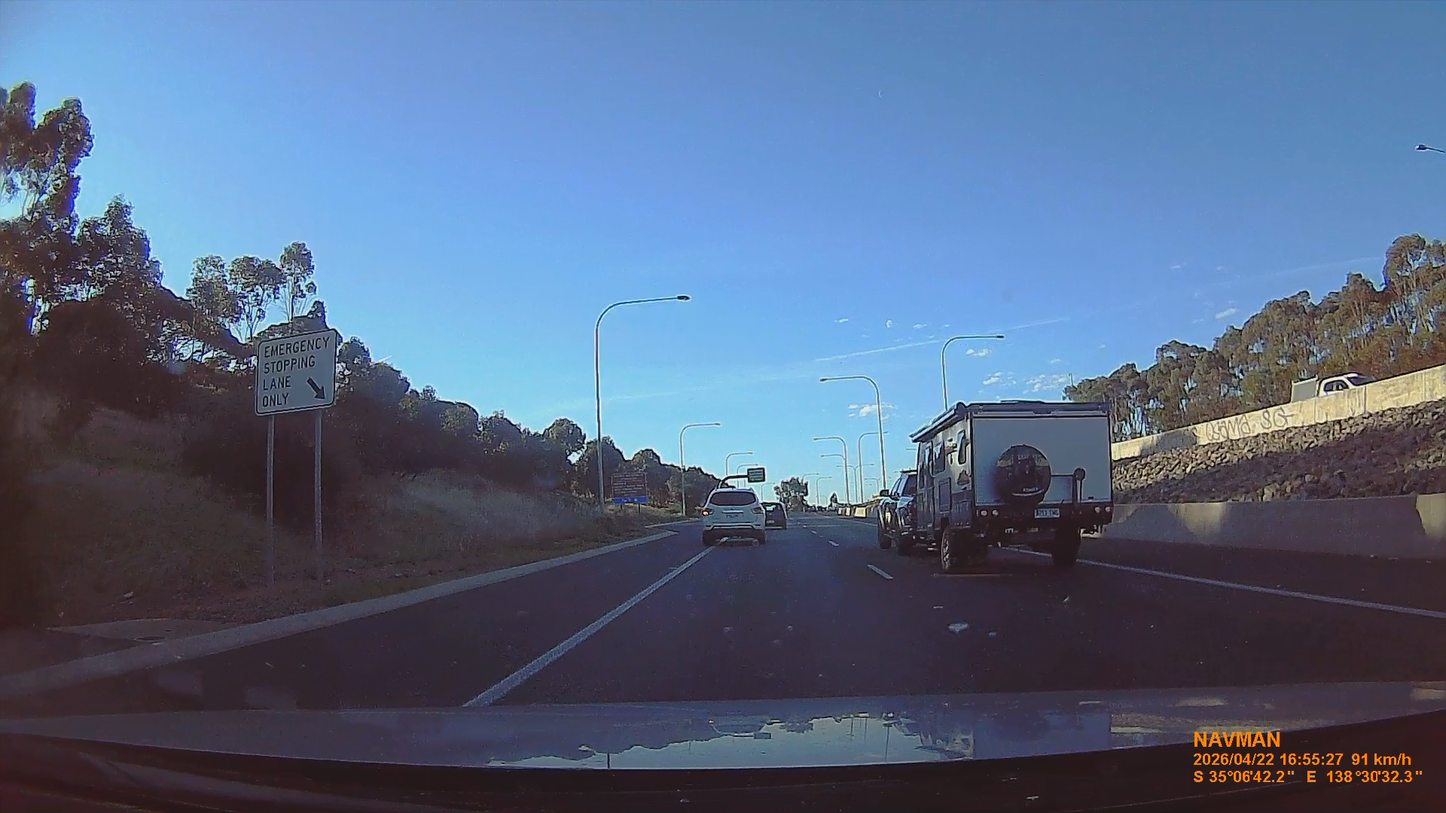road barriers: (1103, 494, 1445, 557)
